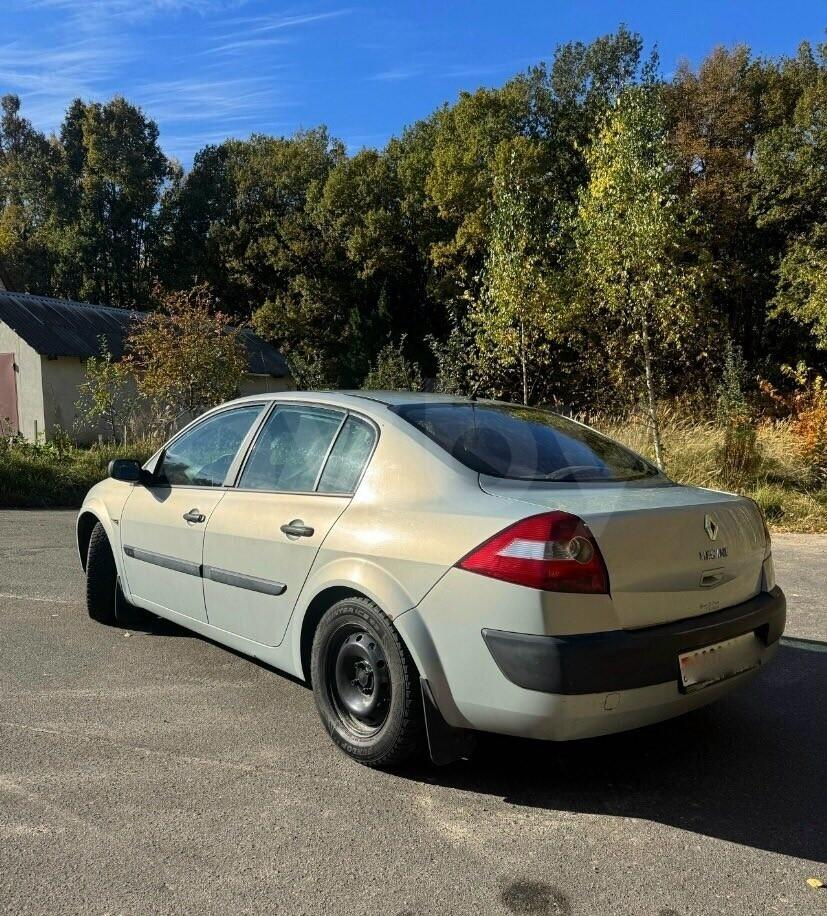Megane_2002-2006: (83, 389, 800, 780)
